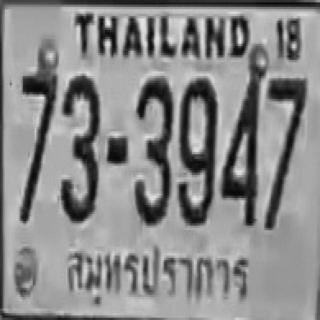N03: (58, 74, 99, 221), (132, 76, 172, 223)
N04: (219, 65, 262, 223)
N07: (266, 76, 305, 226), (20, 69, 56, 216), (266, 76, 306, 191), (266, 76, 306, 177)
N09: (177, 76, 215, 223)
P57: (60, 244, 255, 309)
